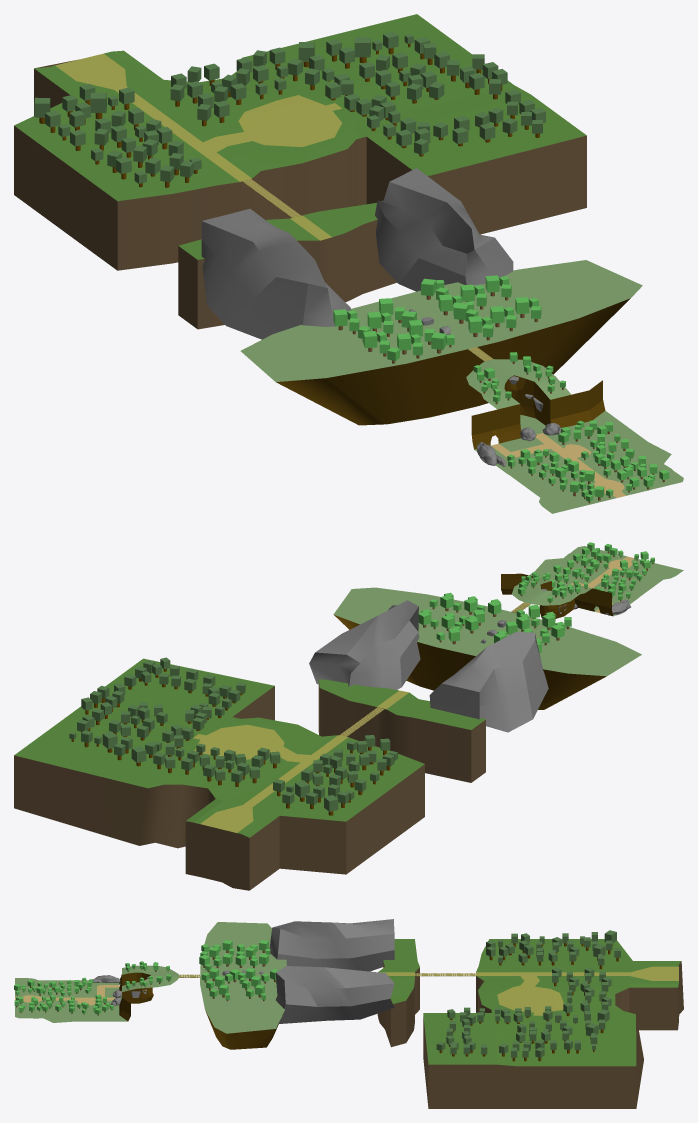
The model's file is paoch.fbx.
3 views of the same model, one above another, from view 1: azimuth 30°, elevation 25°; view 2: azimuth 150°, elevation 25°; view 3: azimuth 270°, elevation 25° (orthographic). The views are drawn at different scales.
Visible parts, largest first — view 1: polySurface536, polySurface542, polySurface539; view 2: polySurface536, polySurface542, polySurface539; view 3: polySurface536, polySurface542, polySurface539, polySurface537.
Boxes of the visible parts, x1=… form: polySurface536: x1=14, y1=14, x2=683, y2=513; polySurface542: x1=34, y1=31, x2=669, y2=503; polySurface539: x1=201, y1=168, x2=563, y2=466; polySurface536: x1=14, y1=546, x2=683, y2=890; polySurface542: x1=69, y1=542, x2=654, y2=815; polySurface539: x1=309, y1=589, x2=630, y2=732; polySurface536: x1=15, y1=922, x2=683, y2=1108; polySurface542: x1=14, y1=930, x2=620, y2=1061; polySurface539: x1=92, y1=919, x2=394, y2=1023; polySurface537: x1=179, y1=973, x2=476, y2=977.
Size of the model in its own units: 14.35 by 3.57 by 28.14.
